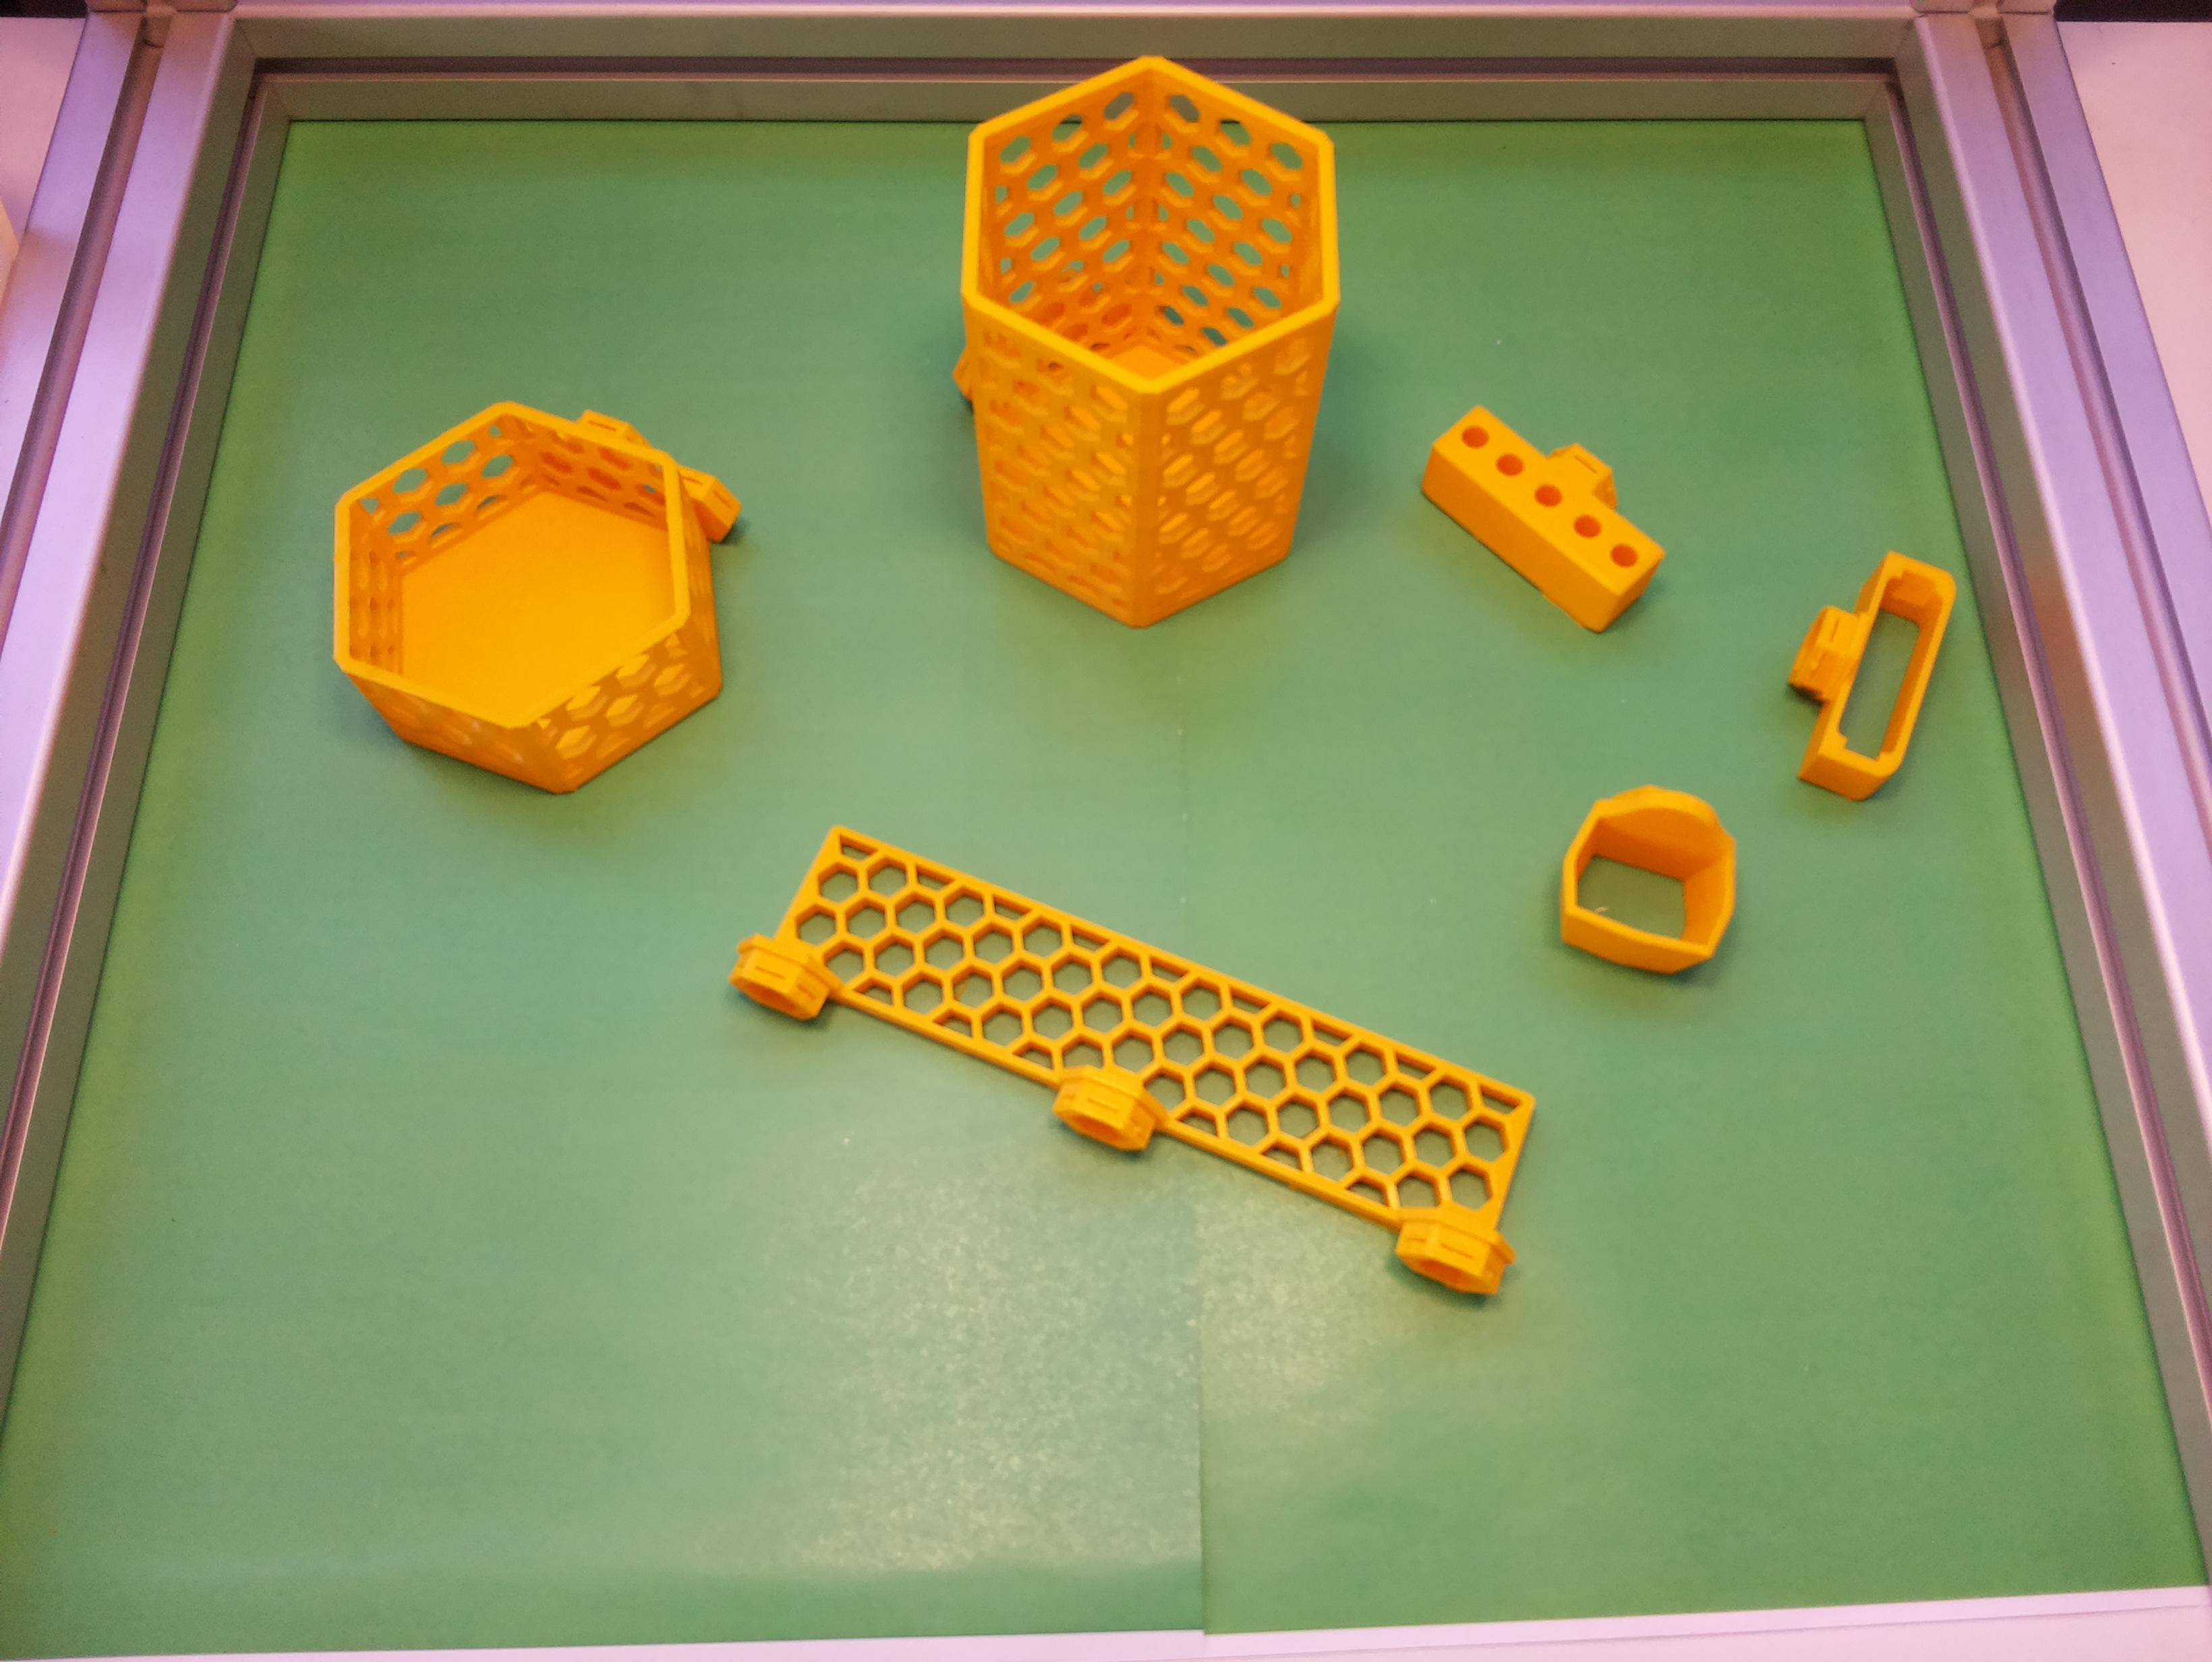bit_holder: (1405, 372, 1690, 642)
bottle_holder: (311, 386, 747, 808)
cup_holder: (946, 51, 1348, 634)
cutter_holder: (1760, 532, 1964, 810)
scissor_holder: (1545, 770, 1756, 986)
tool_holder: (721, 796, 1573, 1306)
